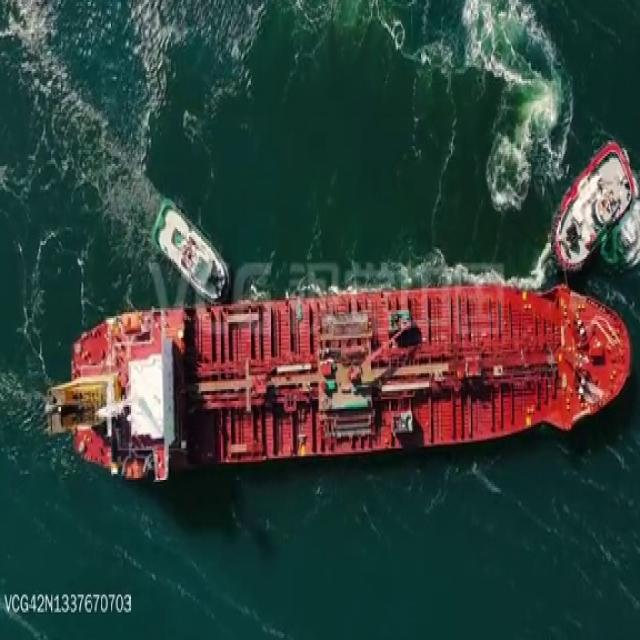cargoship: (47, 294, 631, 465)
houseboat: (545, 137, 634, 268), (152, 194, 228, 304)
